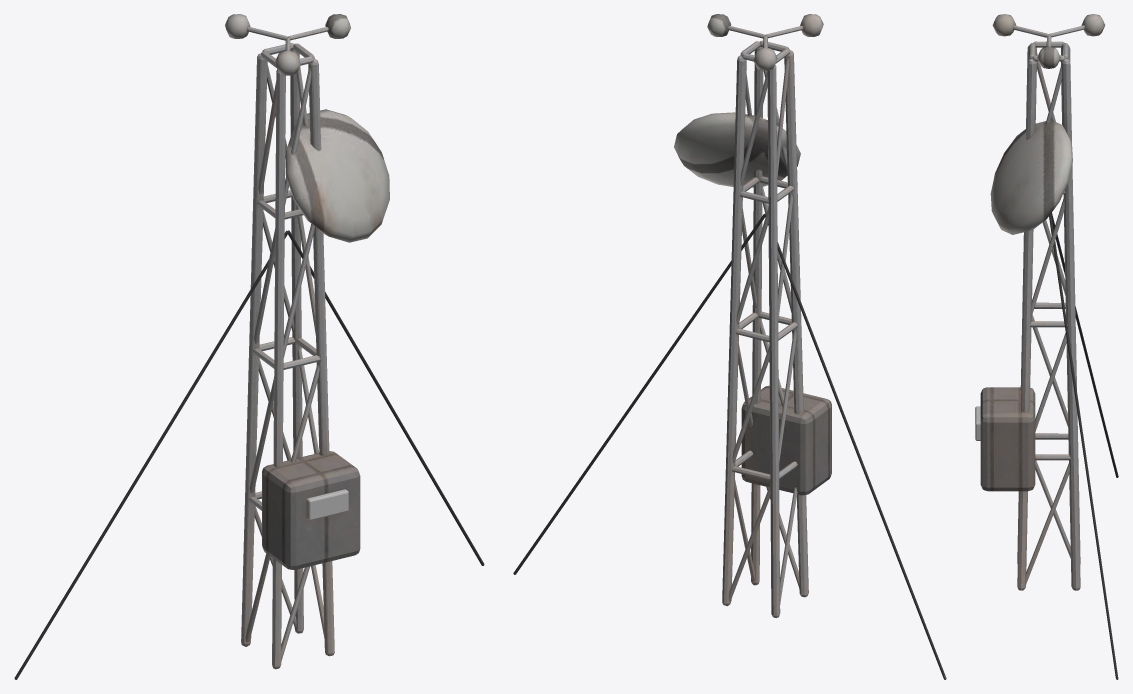
Rendered from laundry.glb.
3 views of the same model, side by side, from view 1: azimuth 30°, elevation 25°; view 2: azimuth 150°, elevation 25°; view 3: azimuth 270°, elevation 25° (orthographic). The views are drawn at different scales.
Visible parts, largest first — view 1: laundry, Glow; view 2: laundry; view 3: laundry.
Boxes of the visible parts, x1=… form: laundry: x1=14, y1=14, x2=484, y2=679; Glow: x1=306, y1=489, x2=348, y2=520; laundry: x1=513, y1=14, x2=946, y2=679; laundry: x1=980, y1=14, x2=1118, y2=679.
Size of the model in its own units: 1.4 by 1.79 by 0.4184.
Materials: 2 (1 with a texture image).
